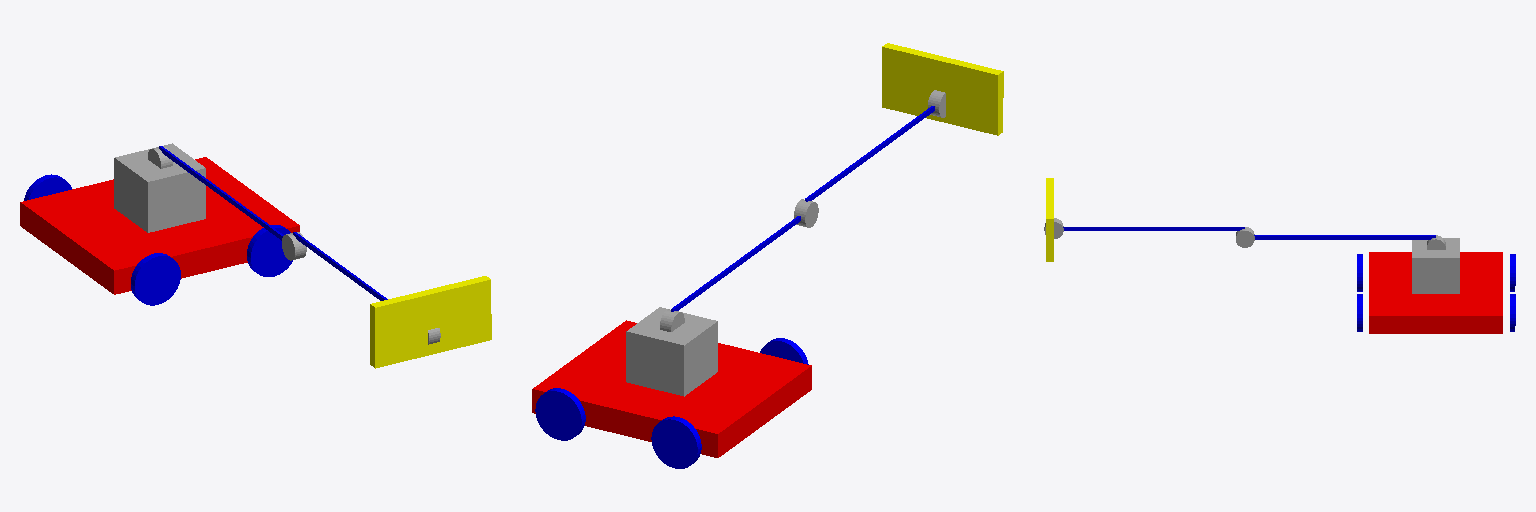
The robot description file, URDF, robot "bot":
<robot name="bot">
<material name="amz">
        <color rgba="0.0 0.0 1.0 1.0"/>
</material>
<link name="base_link">
  <visual>
    <geometry>
      <box size="0.8 0.7 0.1" />
    </geometry>
    <material name="Lightgrey">
      <color rgba="1.0 0.0 0.0 1.0"/>
    </material>
  </visual>
  <collision>
    <geometry>
      <box size="1.0 1.0 1.0" />
      <cylinder radius="1.0" length="1.0"/>
    </geometry>
  </collision>
  <inertial>
    <mass value="1.0"/>
    <origin xyz="0.0 0.0 0.0" rpy="0.0 0.0 0.0"/>
    <inertia ixx="0.0" ixy="0.0" ixz="0.0" iyy="0.0" iyz="0.0" izz="0.0"/>
  </inertial>
</link>
<link name="base_footprint" />
<joint name="base_joint" type="fixed">
  <parent link="base_footprint"/>
  <child link="base_link"/>
  <origin xyz="0 0 0.135" rpy="0 0 0"/>
  <axis xyz="0 0 0"/>
</joint>

<!--front left wheel link -->
  <link name="front_left_wheel_link">
    <visual>
      <geometry>
        <cylinder radius="0.1" length="0.03"/>
      </geometry>
      <material name="amz" />
    </visual>
    <inertial>
    <mass value="0.5"/>
    <origin xyz="0.0 0.0 0.0" rpy="0.0 0.0 0.0"/>
    <inertia ixx="0.0" ixy="0.0" ixz="0.0" iyy="0.0" iyz="0.0" izz="0.0"/>
  </inertial>
  </link>
<joint name="front_left_wheel_joint" type="continuous">
  <parent link="base_link"/>
  <child link="front_left_wheel_link"/>
  <origin xyz="0.25 0.4 0.0" rpy="1.57 0 0"/>
  <axis xyz="0 0 1"/>
</joint>

<!--front right wheel link -->
  <link name="front_right_wheel_link">
    <visual>
      <geometry>
        <cylinder radius="0.1" length="0.03"/>
      </geometry>
      <material name="amz"/>
    </visual>
    <inertial>
    <mass value="0.5"/>
    <origin xyz="0.0 0.0 0.0" rpy="0.0 0.0 0.0"/>
    <inertia ixx="0.0" ixy="0.0" ixz="0.0" iyy="0.0" iyz="0.0" izz="0.0"/>
  </inertial>
  </link>
<joint name="front_right_wheel_joint" type="continuous">
  <parent link="base_link"/>
  <child link="front_right_wheel_link"/>
  <origin xyz="0.25 -0.4 0.0" rpy="1.57 0 0"/>
  <axis xyz="0 0 1"/>
</joint>

<!--Rear left wheel link -->
  <link name="rear_left_wheel_link">
    <visual>
      <geometry>
        <cylinder radius="0.1" length="0.03"/>
      </geometry>
      <material name="amz" />
    </visual>
    <inertial>
    <mass value="0.5"/>
    <origin xyz="0.0 0.0 0.0" rpy="0.0 0.0 0.0"/>
    <inertia ixx="0.0" ixy="0.0" ixz="0.0" iyy="0.0" iyz="0.0" izz="0.0"/>
  </inertial>
  </link>
<joint name="rear_left_wheel_joint" type="continuous">
  <parent link="base_link"/>
  <child link="rear_left_wheel_link"/>
  <origin xyz="-0.25 0.4 0.0" rpy="1.57 0 0"/>
  <axis xyz="0 0 1"/>
</joint>

<!--Rear right wheel link -->
  <link name="rear_right_wheel_link">
    <visual>
      <geometry>
        <cylinder radius="0.1" length="0.03"/>
      </geometry>
      <material name="amz"/>
    </visual>
    <inertial>
    <mass value="0.5"/>
    <origin xyz="0.0 0.0 0.0" rpy="0.0 0.0 0.0"/>
    <inertia ixx="0.0" ixy="0.0" ixz="0.0" iyy="0.0" iyz="0.0" izz="0.0"/>
  </inertial>
  </link>
<joint name="rear_right_wheel_joint" type="continuous">
  <parent link="base_link"/>
  <child link="rear_right_wheel_link"/>
  <origin xyz="-0.25 -0.4 0.0" rpy="1.57 0 0"/>
  <axis xyz="0 0 1"/>
</joint>

<link name="driver">
  <visual>
    <geometry>
      <box size="0.25 0.25 0.25" />
      </geometry>
    <material name="LightGrey">
      <color rgba="0.7 0.7 0.7 1.0"/>
    </material>
  </visual>
</link>
<joint name="driver_base" type="continuous">
  <parent link="base_link"/>
  <child link="driver"/>
  <axis xyz="0 0 1.0"/>
  <origin xyz="0 0 0.135" rpy="0 0 0"/>
</joint>
<link name="Rod1">
  <visual>
    <geometry> 
      <box size="0.02 1.0 0.01" />
    </geometry>
    <material name="amzq">
      <color rgba="0.0 0.0 1.0 1.0"/>
    </material>
     <inertial>
    <mass value="1.0"/>
    <origin xyz="0.0 0.0 0.0" rpy="0.0 0.0 0.0"/>
    <inertia ixx="0.0" ixy="0.0" ixz="0.0" iyy="0.0" iyz="0.0" izz="2.0"/>
    </inertial>
  </visual>
</link>
<link name="Disc1">
  <visual>
    <geometry>
      <cylinder radius="0.05" length="0.05"/>
    </geometry>
    <material name="LightGrey">
      <color rgba="0.7 0.7 0.7 1.0"/>
    </material>
  </visual>
</link>

<joint name="driver_disc1" type="continuous">
  <parent link="driver"/>
  <child link="Disc1"/>
  <axis xyz="0 0 1"/>
  <origin xyz="0 0 0.135" rpy="0 1.57 0"/>
</joint>

<joint name="disc1_rod1" type="fixed">
  <parent link="Disc1"/>
  <child link="Rod1"/>
  <origin xyz="-0.05 -0.5 0.0" rpy="0.0 0.0 0.0"/>
</joint>
<link name="Disc2">
  <visual>
    <geometry>
      <cylinder radius="0.05" length="0.05"/>
    </geometry>
    <material name="LightGrey">
      <color rgba="0.7 0.7 0.7 1.0"/>
    </material>
  </visual>
</link>
<link name="Rod2">
  <visual>
    <geometry> 
      <box size="0.02 1.0 0.01" />
    </geometry>
    <material name="amzq">
      <color rgba="0.0 0.0 1.0 1.0"/>
    </material>
     <inertial>
    <mass value="1.0"/>
    <origin xyz="0.0 0.0 0.0" rpy="0.0 0.0 0.0"/>
    <inertia ixx="0.0" ixy="0.0" ixz="0.0" iyy="0.0" iyz="0.0" izz="2.0"/>
    </inertial>
  </visual>
</link>
<joint name="rod1_disc2" type="continuous">
  <parent link="Rod1"/>
  <child link="Disc2"/>
  <axis xyz="0 0 1"/>
  <origin xyz="0.0 -0.5 0.0" rpy="0 0 0"/>
</joint>
<joint name="disc2_rod2" type="fixed">
  <parent link="Disc2"/>
  <child link="Rod2"/>
  <origin xyz="-0.05 -0.5 0.0" rpy="0.0 0.0 0.0"/>
</joint>
<link name="Disc3">
  <visual>
    <geometry>
      <cylinder radius="0.05" length="0.05"/>
    </geometry>
    <material name="LightGrey">
      <color rgba="0.7 0.7 0.7 1.0"/>
    </material>
  </visual>
</link>
<link name="plate">
  <visual>
    <geometry> 
      <box size="0.25 0.04 0.5" />
    </geometry>
    <material name="LightGrey">
      <color rgba="1 1 0 1.0"/>
    </material>
  </visual>
</link>
<joint name="rod2_disc3" type="continuous">
  <parent link="Rod2"/>
  <child link="Disc3"/>
  <axis xyz="0 0 1"/>
  <origin xyz="0.0 -0.5 0.0" rpy="0 0 0"/>
</joint>
<joint name="disc3_plate" type="fixed">
  <parent link="Disc3"/>
  <child link="plate"/>
  <origin xyz="-0.05 -0.02 0.0" rpy="0.0 0.0 0.0"/>
</joint>
</robot>

--- Facts derived from the render (not from the file) ---
Views: 3 orthographic renders of the robot side by side, from view 1: azimuth 30°, elevation 25°; view 2: azimuth 150°, elevation 25°; view 3: azimuth 270°, elevation 25°.
Robot: bot — 13 links, 12 joints (8 continuous, 4 fixed); root link base_footprint; default pose: all joints at 0.
Links seen in each view (by area): view 1: base_link, plate, driver, rear_right_wheel_link, front_right_wheel_link, Rod1, rear_left_wheel_link, Rod2; view 2: base_link, plate, driver, front_left_wheel_link, rear_left_wheel_link, Rod1, Rod2, rear_right_wheel_link, Disc2; view 3: base_link, driver, Rod1, Rod2, plate.
Link boxes in pixels (x1=…): base_link: x1=20, y1=157, x2=299, y2=294; plate: x1=370, y1=276, x2=491, y2=368; driver: x1=114, y1=143, x2=205, y2=232; rear_right_wheel_link: x1=131, y1=253, x2=180, y2=305; front_right_wheel_link: x1=247, y1=225, x2=292, y2=276; Rod1: x1=159, y1=146, x2=283, y2=240; rear_left_wheel_link: x1=24, y1=174, x2=71, y2=200; Rod2: x1=293, y1=232, x2=387, y2=300; base_link: x1=532, y1=320, x2=811, y2=457; plate: x1=882, y1=43, x2=1003, y2=135; driver: x1=626, y1=307, x2=717, y2=396; front_left_wheel_link: x1=535, y1=388, x2=585, y2=440; rear_left_wheel_link: x1=651, y1=416, x2=701, y2=468; Rod1: x1=671, y1=216, x2=800, y2=311; Rod2: x1=805, y1=106, x2=934, y2=201; rear_right_wheel_link: x1=760, y1=338, x2=808, y2=364; Disc2: x1=794, y1=199, x2=818, y2=227; base_link: x1=1369, y1=252, x2=1502, y2=333; driver: x1=1412, y1=238, x2=1459, y2=293; Rod1: x1=1254, y1=235, x2=1435, y2=239; Rod2: x1=1063, y1=227, x2=1244, y2=230; plate: x1=1046, y1=178, x2=1053, y2=261.
Size in the robot's own frame: 0.8 by 2.47 by 0.6452 metres.
Geometry: primitives only (box / cylinder / sphere), no mesh files.